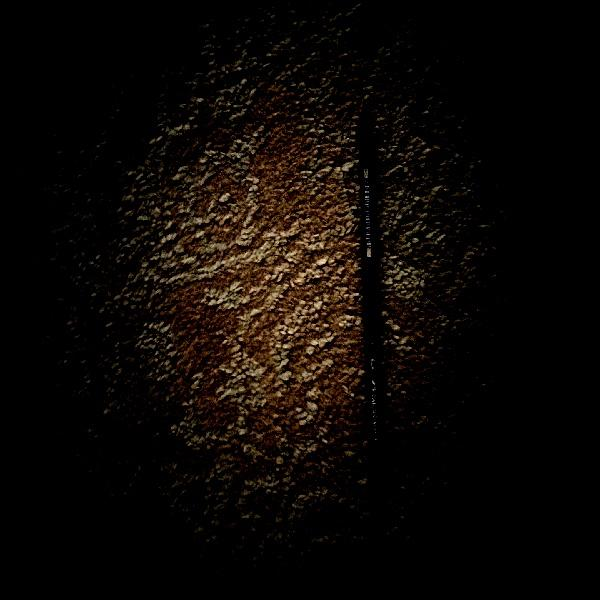pencil: (349, 100, 390, 470)
